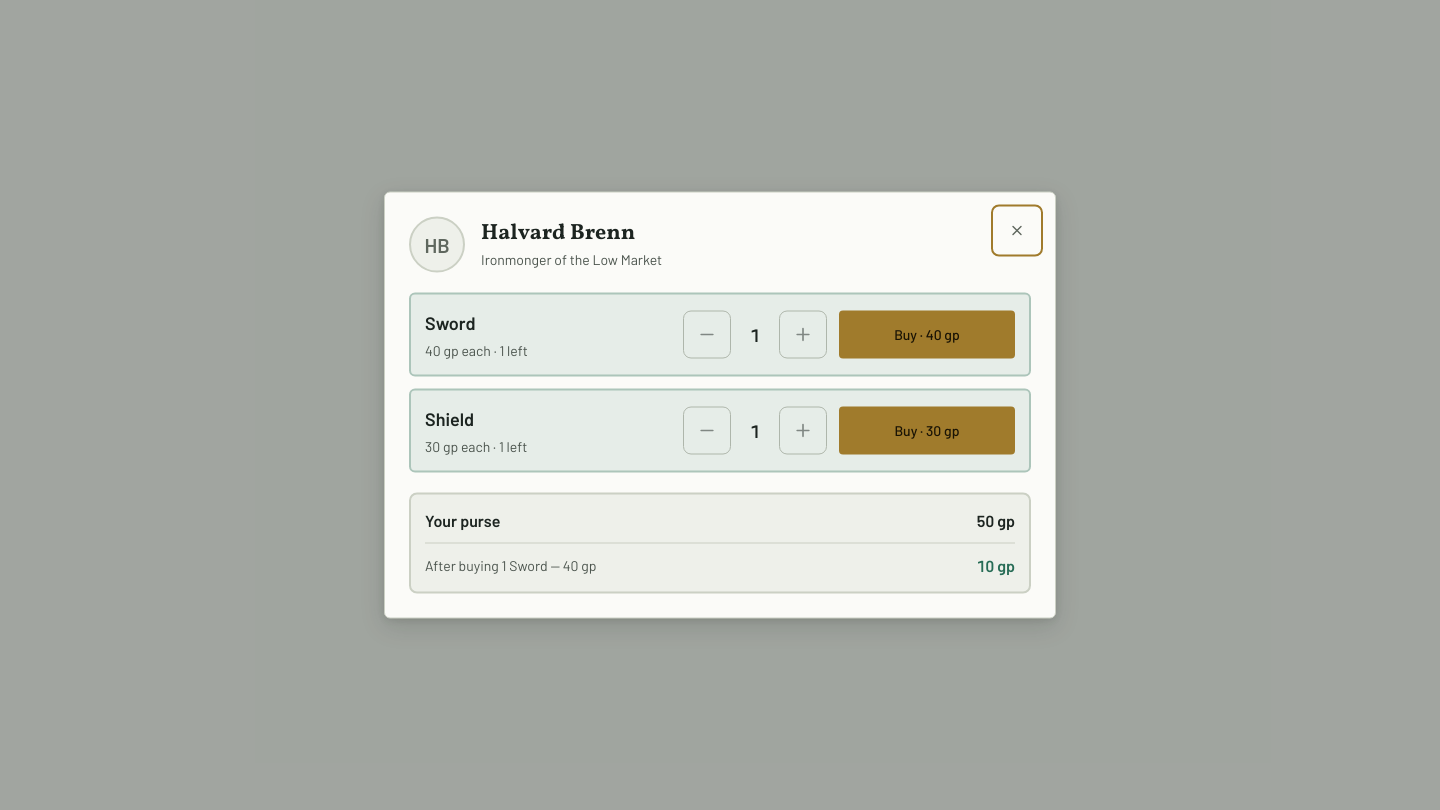
Scenario: committed spend (owned by the caller) corrects affordability across multiple purchases and a dialog close/reopen › marks a second item unaffordable once an earlier purchase this session has committed enough of the purse, even though purse itself is untouched
Expected: the text "Sword" is shown, [425,308,476,336]
Expected: the button "Buy · 30 gp" is enabled, [839,406,1015,454]
Step 1. Click the button "Buy · 40 gp" → x=927, y=334, box [839,310,1015,358]
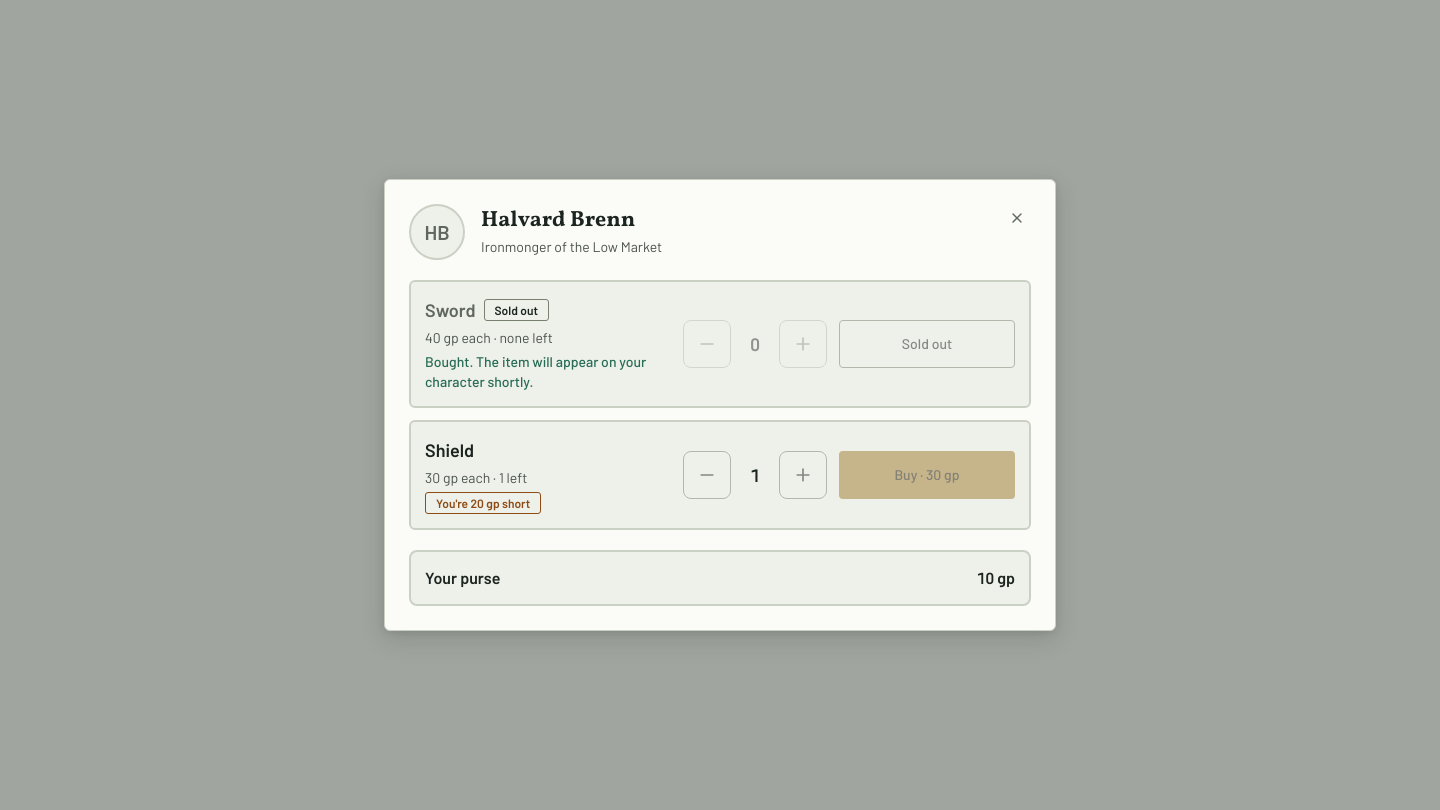
Now the text "Bought. The item will appear on your character shortly." is shown, box [425,352,671,392]
Now the text "You're 20 gp short" is shown, box [425,492,541,514]
Now the button "Buy · 30 gp" is disabled, box [839,451,1015,499]
